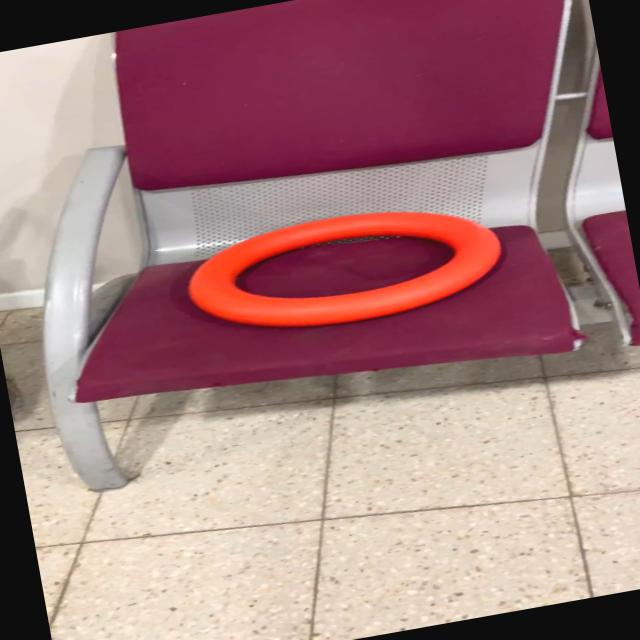note: (176, 186, 512, 351)
